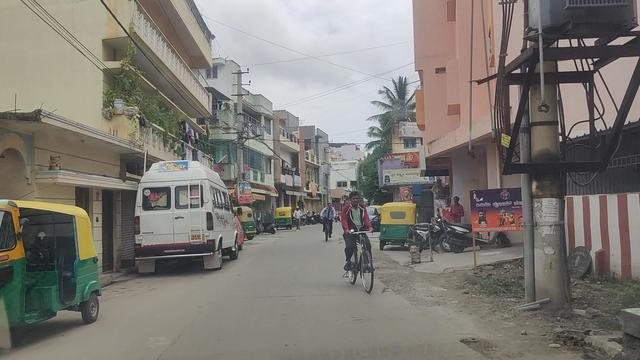HMV: (132, 165, 232, 273)
LMV: (340, 190, 375, 296)
RoadDamages: (396, 269, 455, 321)
